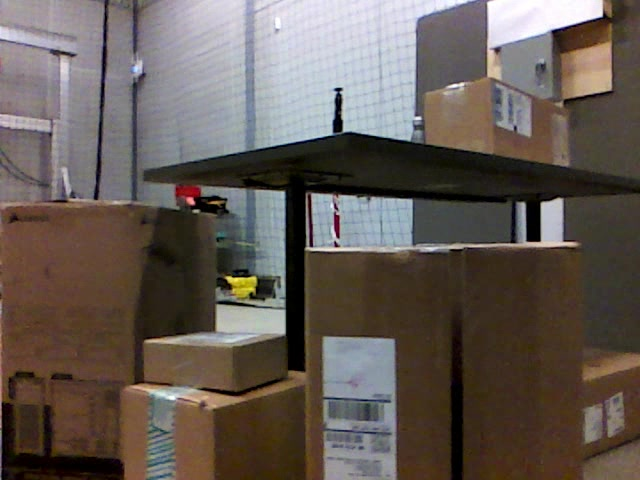box: (305, 247, 582, 480), (1, 199, 217, 480), (121, 370, 304, 480), (423, 82, 570, 166), (143, 329, 293, 397), (582, 342, 640, 467)
